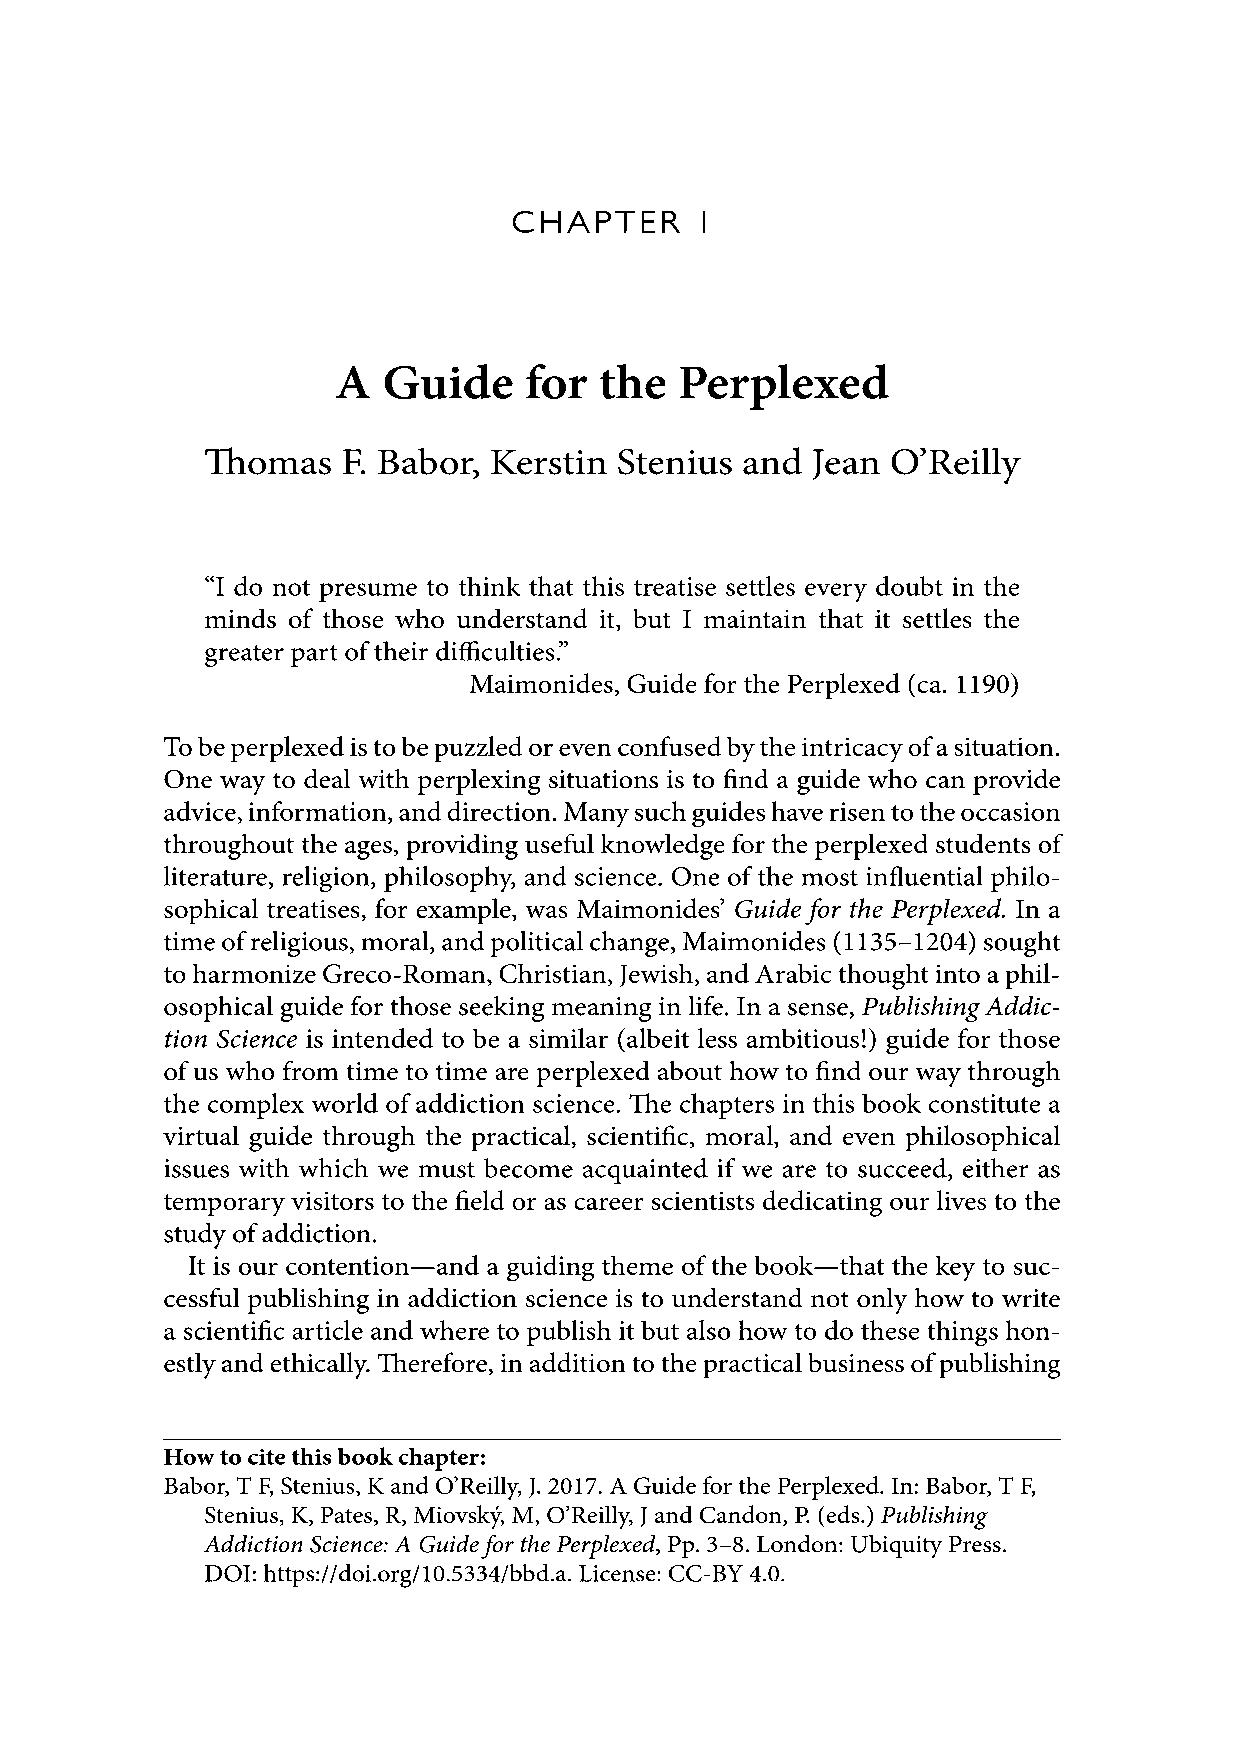chapter: (201, 361, 1023, 484)
content: (156, 573, 1066, 1590)
